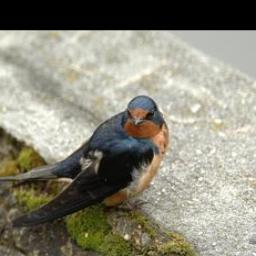Swallow: (0, 93, 170, 227)
